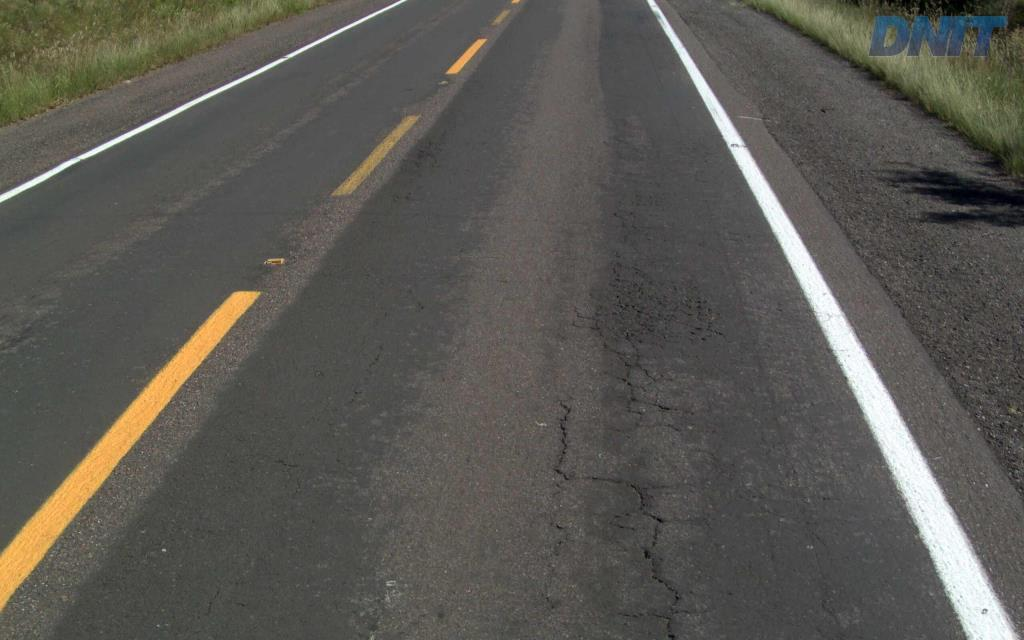crack: (586, 476, 691, 639), (589, 261, 693, 421), (679, 295, 716, 334)
